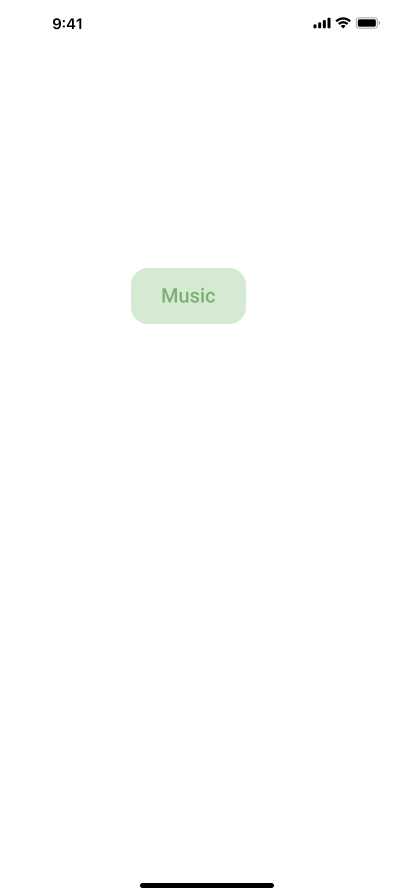Buttons: (131, 268, 254, 324)
Home Indicator: (0, 862, 414, 896)
Status Bar: (0, 0, 414, 44)
